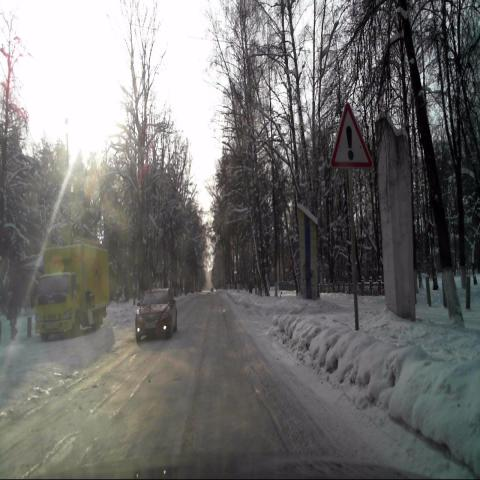1_33: (332, 101, 372, 169)
